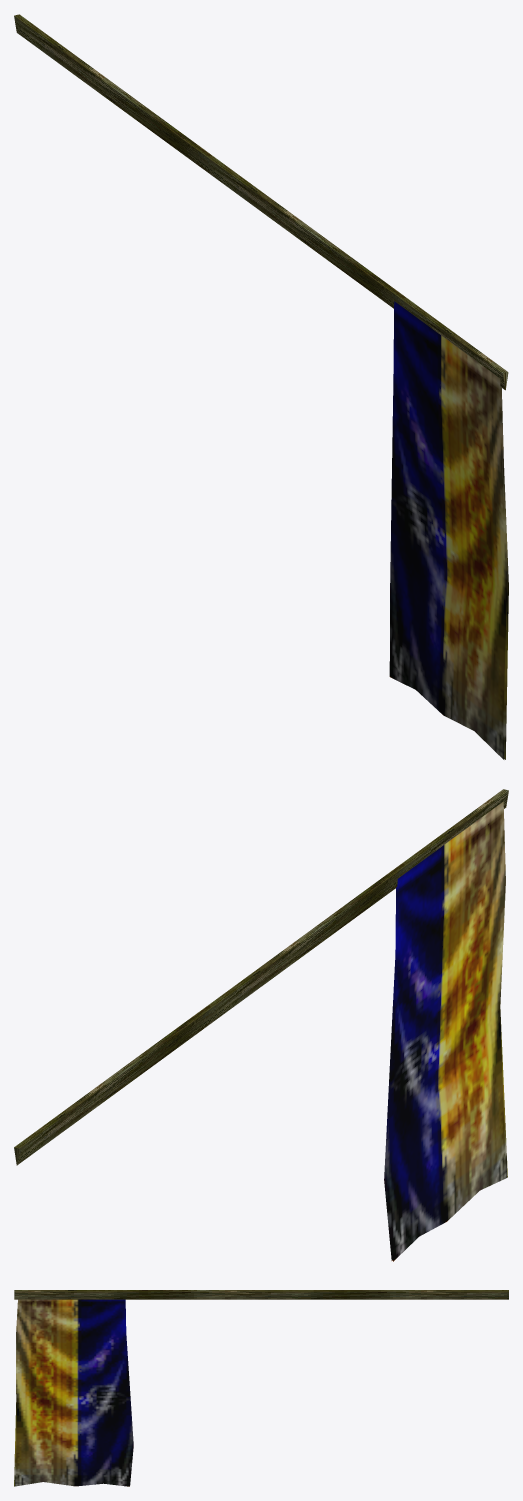
3 views of the same model, one above another, from view 1: azimuth 30°, elevation 25°; view 2: azimuth 150°, elevation 25°; view 3: azimuth 270°, elevation 25° (orthographic). The views are drawn at different scales.
Parts seen in each view (by area): view 1: tn5_fl4; view 2: tn5_fl4; view 3: tn5_fl4.
Part boxes in pixels (<box>): tn5_fl4: <box>14,14,508,759</box>; tn5_fl4: <box>14,789,508,1261</box>; tn5_fl4: <box>14,1290,508,1486</box>.
Bounding box in the file's own units: 0.0354 × 1.41 × 3.23.
Materials: 2 (2 with a texture image).
